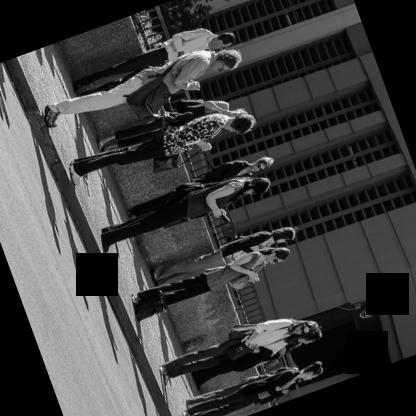handbag: (130, 52, 184, 116), (134, 288, 186, 321), (169, 177, 234, 196), (152, 149, 201, 173), (174, 98, 205, 118), (228, 322, 260, 341), (225, 341, 252, 360), (227, 274, 247, 289)
